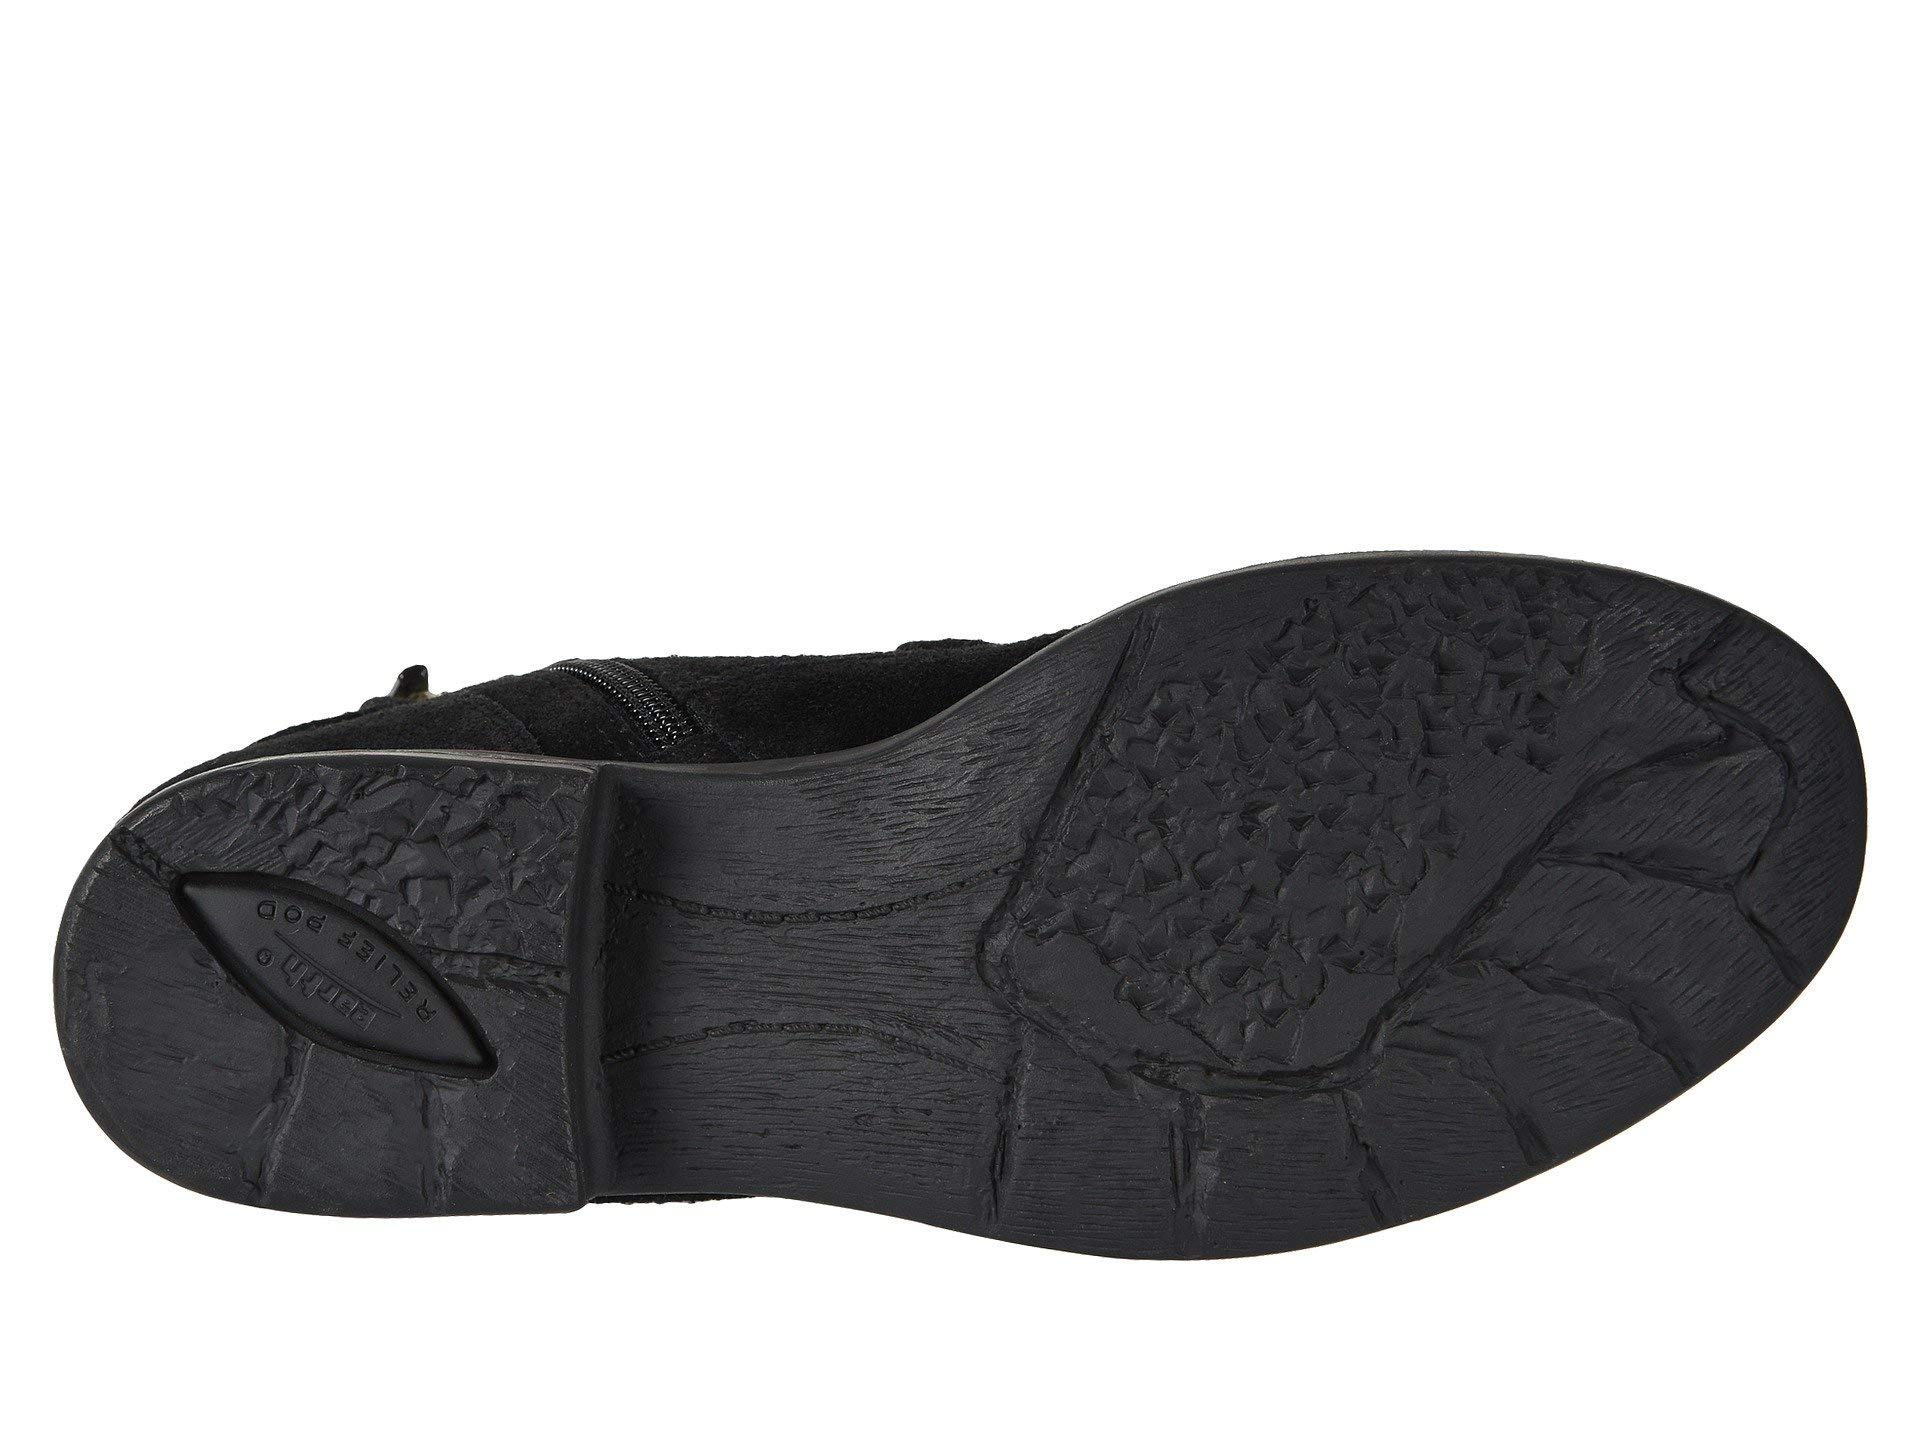circle: (163, 855, 487, 1088)
line: (989, 1035, 1560, 1221), (163, 855, 487, 1088), (671, 824, 900, 1100)
other: (1161, 596, 1367, 968)
quad: (989, 1035, 1560, 1221)
text: (163, 855, 487, 1088)
